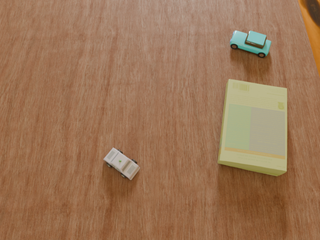book: (218, 79, 287, 176)
toy_car: (104, 148, 140, 180), (230, 31, 271, 58)
